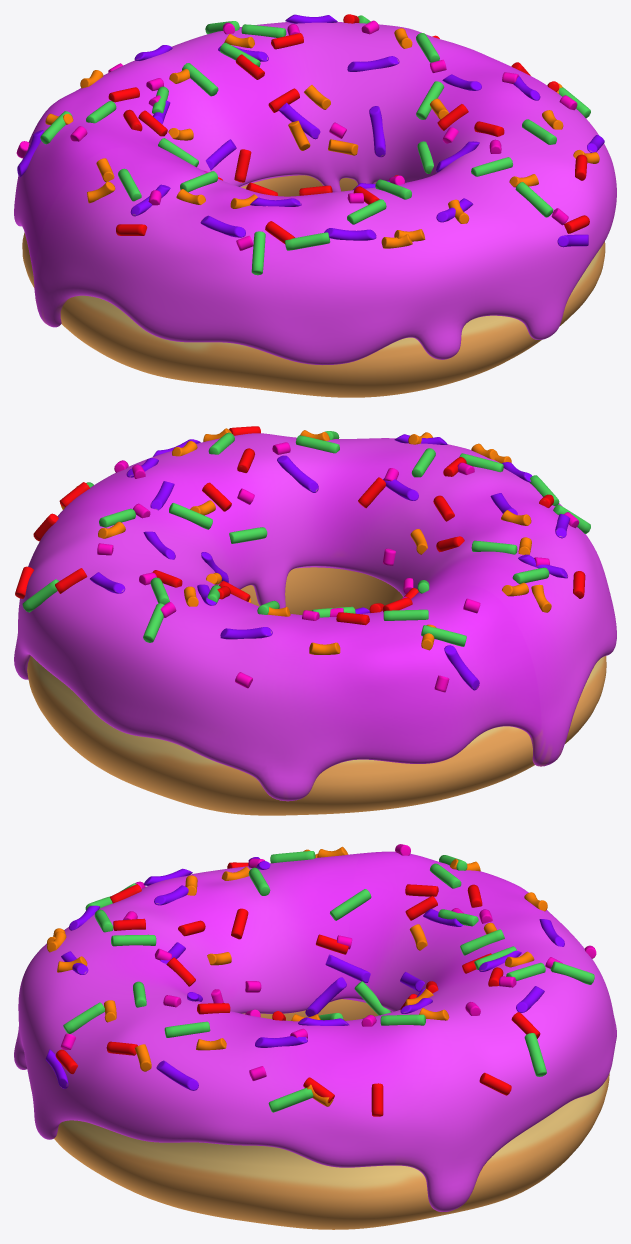
3 views of the same model, one above another, from view 1: azimuth 30°, elevation 25°; view 2: azimuth 150°, elevation 25°; view 3: azimuth 270°, elevation 25° (orthographic).
Parts seen in each view (by area): view 1: пончик; view 2: пончик; view 3: пончик.
Boxes of the visible parts, x1=… form: пончик: x1=14, y1=14, x2=616, y2=397; пончик: x1=14, y1=426, x2=616, y2=815; пончик: x1=14, y1=844, x2=616, y2=1229.
Bounding box in the file's own units: 0.1011 × 0.0379 × 0.1021.
2 materials, 2 textured.
